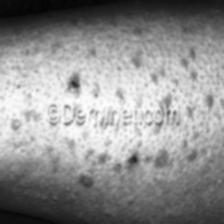Toxin: (126, 146, 140, 168), (66, 74, 80, 94)
